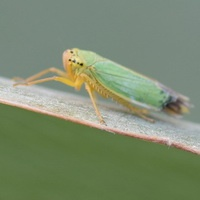insect: (13, 48, 191, 123)
